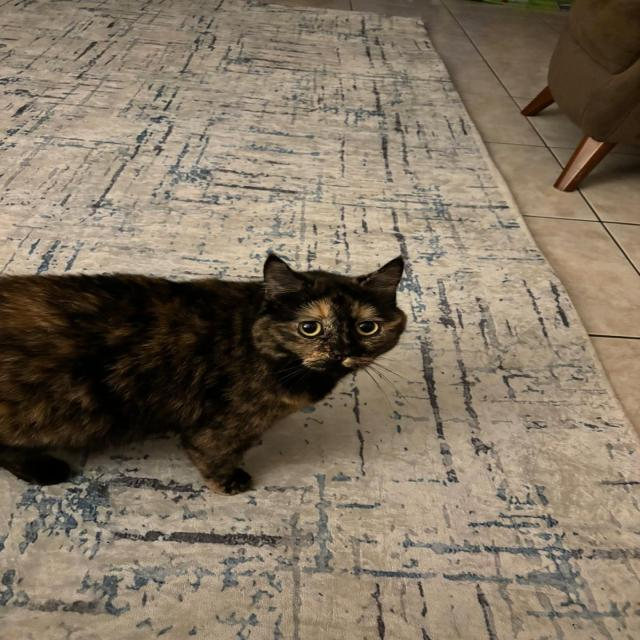authorized: (0, 252, 410, 496)
